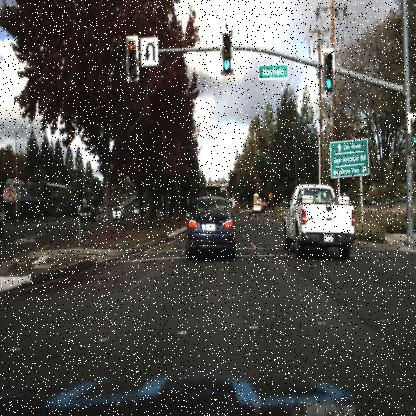car: (281, 179, 358, 263), (181, 192, 239, 268), (76, 202, 96, 228), (251, 191, 265, 214), (252, 189, 264, 212), (111, 204, 125, 222), (132, 204, 143, 219)
trafficLight-Green: (319, 57, 333, 98), (220, 40, 234, 78)
trafficLight-RedLeft: (125, 32, 141, 79)
